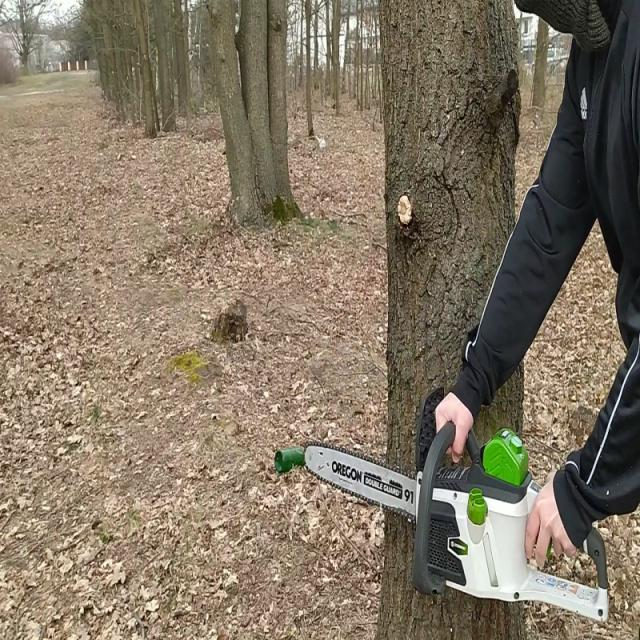Chainsaw: (294, 414, 618, 626)
